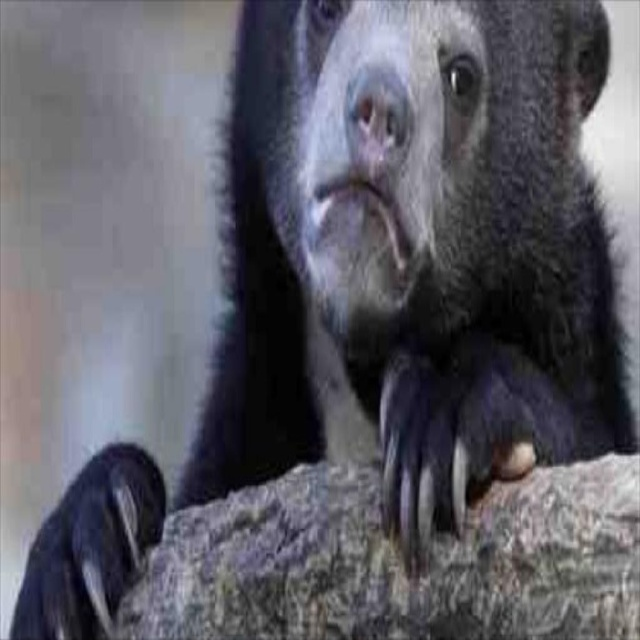Bear: (8, 0, 639, 638)
